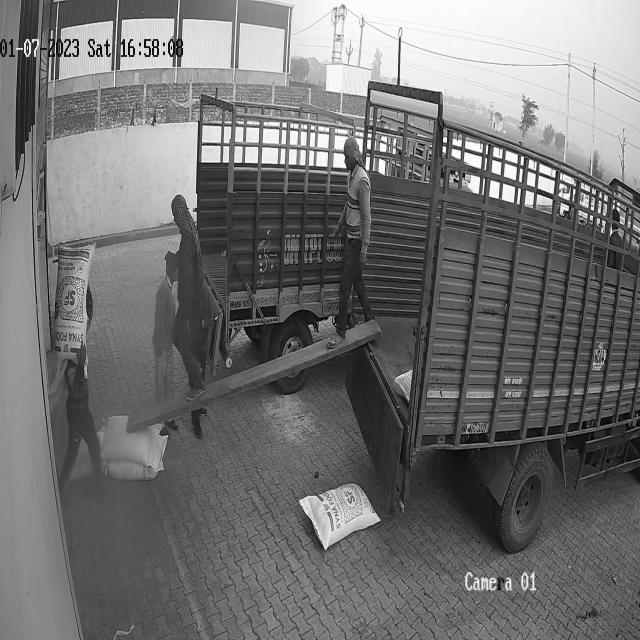sack: (51, 241, 96, 365), (299, 482, 380, 550), (101, 415, 167, 466), (106, 461, 157, 479)
